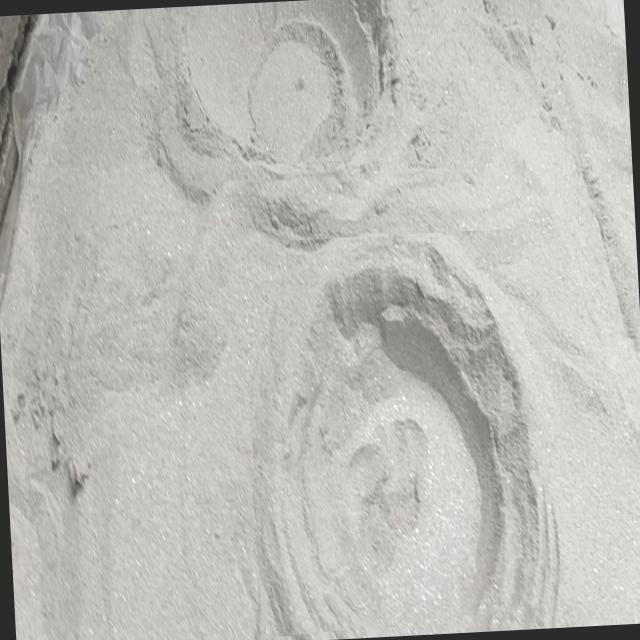C20: (252, 234, 551, 636), (186, 4, 378, 164)
